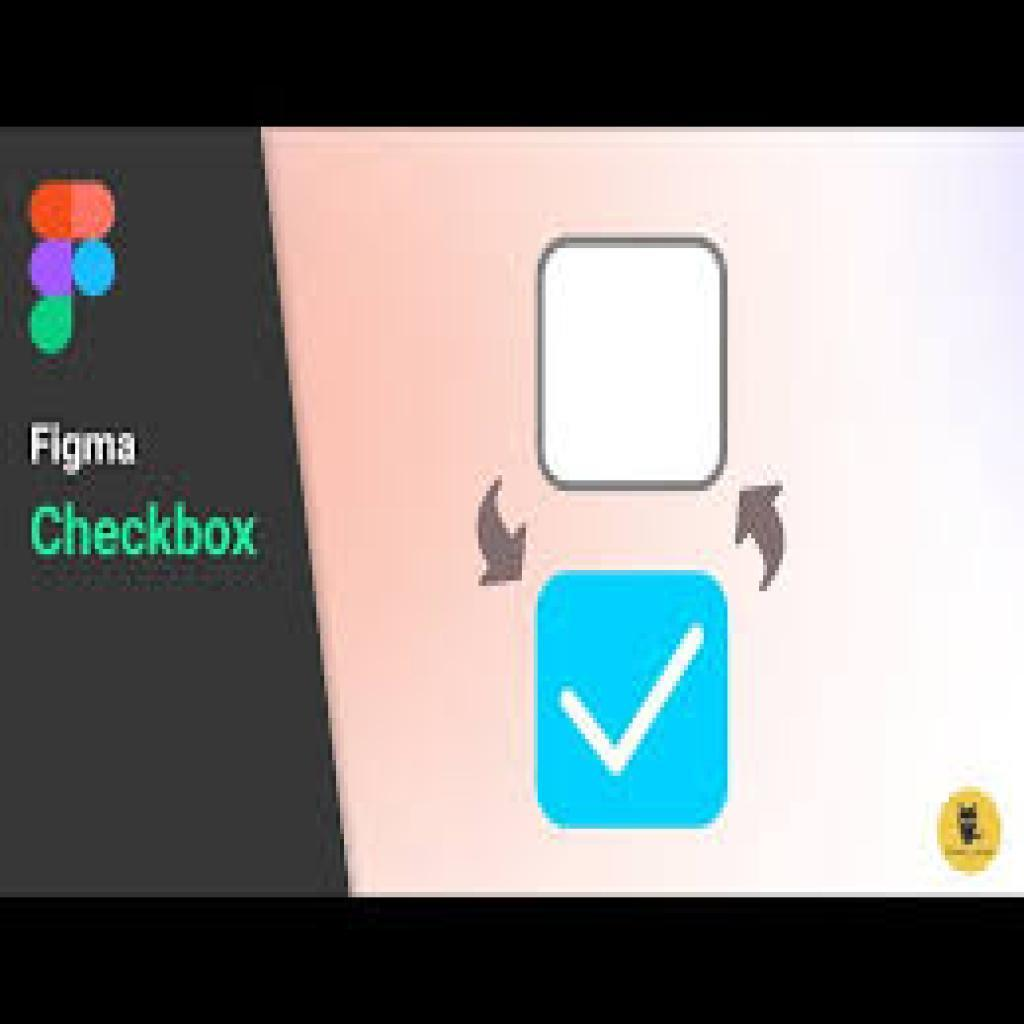checkbox: (535, 571, 729, 831), (538, 238, 729, 492)
